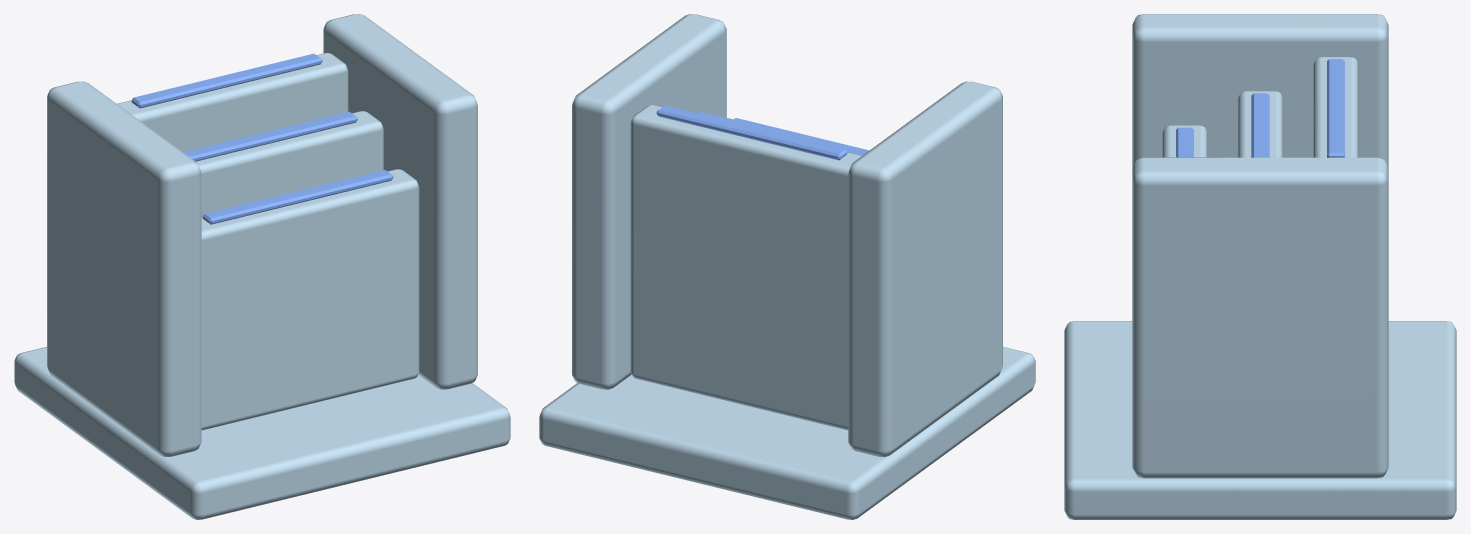
The model's file is R4X_WallDeployer.fbx.
3 views of the same model, side by side, from view 1: azimuth 30°, elevation 25°; view 2: azimuth 150°, elevation 25°; view 3: azimuth 270°, elevation 25° (orthographic). The views are drawn at different scales.
Parts seen in each view (by area): view 1: R4X_WallDeployer_Body, R4X_WallDeployer_Panels; view 2: R4X_WallDeployer_Body, R4X_WallDeployer_Panels; view 3: R4X_WallDeployer_Body, R4X_WallDeployer_Panels.
Boxes of the visible parts, x1,y1,x2,y2 form: R4X_WallDeployer_Body: [14, 14, 510, 519]; R4X_WallDeployer_Panels: [117, 53, 419, 430]; R4X_WallDeployer_Body: [539, 14, 1035, 519]; R4X_WallDeployer_Panels: [630, 105, 869, 430]; R4X_WallDeployer_Body: [1064, 14, 1456, 519]; R4X_WallDeployer_Panels: [1162, 57, 1358, 157].
Size of the model in its own units: 0.52 by 0.51 by 0.52.
